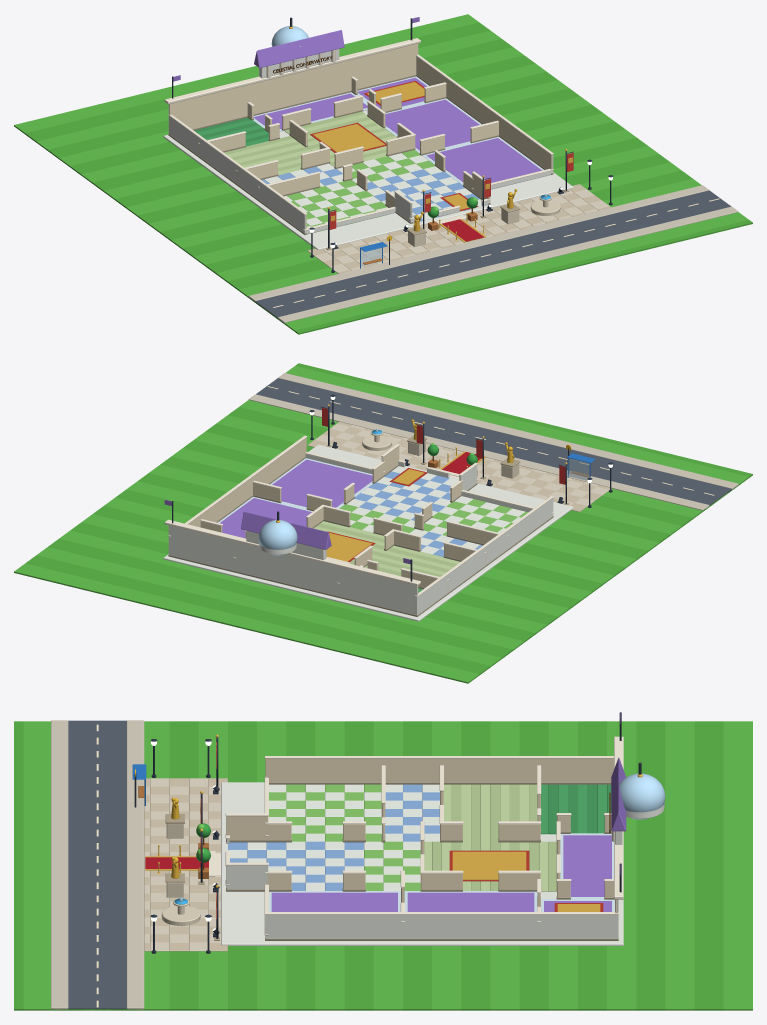
File: shell.glb
3 renders of one model, top to bottom at view 1: azimuth 30°, elevation 25°; view 2: azimuth 150°, elevation 25°; view 3: azimuth 270°, elevation 25°, orthographic. The views are drawn at different scales.
Parts seen in each view (by area): view 1: grounds, building, crown, grand_2, grand_4, grand_3; view 2: grounds, building, crown, grand_2, dome, grand_4, grand_3; view 3: grounds, building, crown, dome, grand_4, grand_2, grand_3.
Boxes of the visible parts, x1,y1,x2,y2 form: grounds: (14,14,752,334); building: (163,43,573,249); crown: (164,17,420,104); grand_2: (326,149,573,250); grand_4: (407,189,520,246); grand_3: (333,187,564,249); grounds: (14,363,752,683); building: (163,435,573,621); crown: (164,499,420,585); grand_2: (321,404,569,505); dome: (258,520,297,555); grand_4: (407,419,520,478); grand_3: (332,441,564,503); grounds: (14,720,752,1010); building: (209,756,623,945); crown: (609,712,664,899); dome: (615,773,665,819); grand_4: (165,797,184,897); grand_2: (196,734,219,940); grand_3: (145,785,219,937).
Bounding box in the file's own units: 35 × 6.12 × 38.
